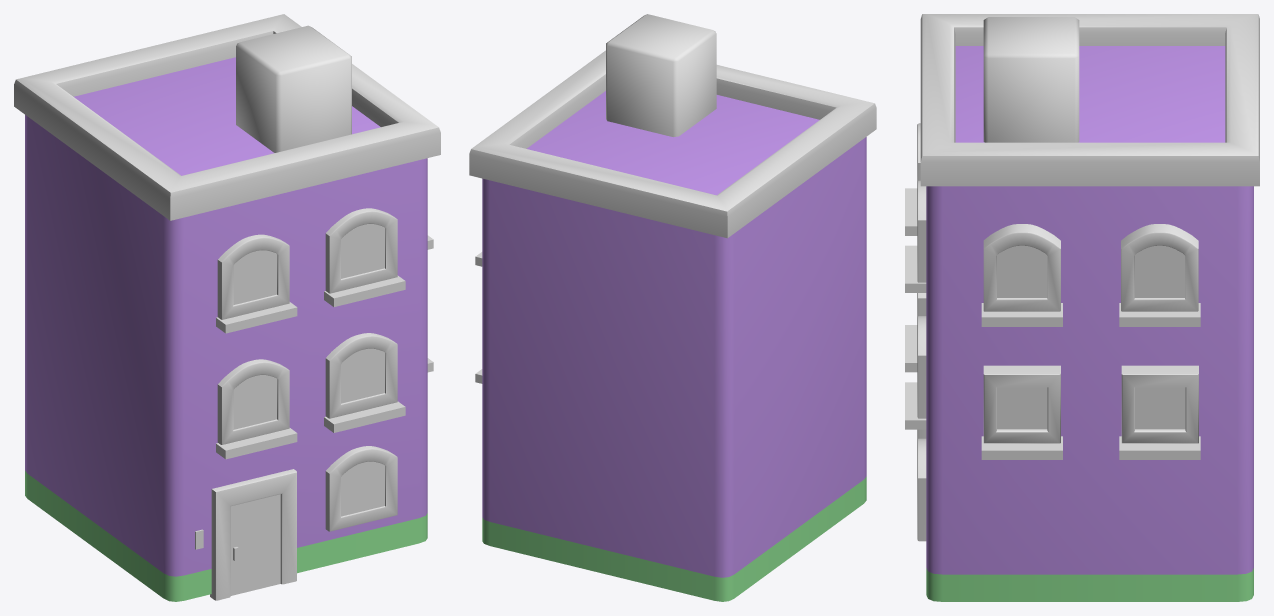
The model's file is appartements1.FBX.
3 views of the same model, side by side, from view 1: azimuth 30°, elevation 25°; view 2: azimuth 150°, elevation 25°; view 3: azimuth 270°, elevation 25° (orthographic). The views are drawn at different scales.
Visible parts, largest first — view 1: Batiment, Toit, Compteur, PorteCadre, Porte, FenetreCadre04, FenetreCadre03, FenetreCadre05, FenetreCadre010, FenetreCadre02, fenetre04, fenetre015 (+7 smaller); view 2: Batiment, Toit, Compteur; view 3: Batiment, Toit, Compteur, FenetreCadreCarré (×2), FenetreCadre00, FenetreCadre01, fenetre02, fenetre03, fenetre01, fenetre00, RebordFenetre07, RebordFenetre08 (+9 smaller).
Boxes of the visible parts, x1,y1,x2,y2 form: Batiment: [25, 57, 427, 601]; Toit: [14, 14, 440, 220]; Compteur: [236, 25, 351, 152]; PorteCadre: [210, 469, 296, 600]; Porte: [230, 494, 280, 595]; FenetreCadre04: [217, 359, 289, 444]; FenetreCadre03: [217, 234, 289, 319]; FenetreCadre05: [325, 333, 397, 418]; FenetreCadre010: [325, 446, 397, 531]; FenetreCadre02: [325, 208, 397, 293]; fenetre04: [341, 348, 384, 403]; fenetre015: [341, 461, 384, 516]; Batiment: [482, 91, 866, 601]; Toit: [469, 50, 876, 238]; Compteur: [606, 14, 716, 136]; Batiment: [926, 46, 1253, 601]; Toit: [920, 14, 1259, 186]; Compteur: [983, 17, 1079, 142]; FenetreCadreCarré (×2): [983, 365, 1198, 443]; FenetreCadre00: [983, 224, 1060, 311]; FenetreCadre01: [1121, 224, 1198, 311]; fenetre02: [1134, 245, 1184, 297]; fenetre03: [997, 245, 1047, 297]; fenetre01: [997, 387, 1047, 429]; fenetre00: [1135, 387, 1185, 429]; RebordFenetre07: [981, 436, 1062, 459]; RebordFenetre08: [1119, 436, 1200, 459].
Size of the model in its own units: 17.57 by 27.76 by 17.06.
